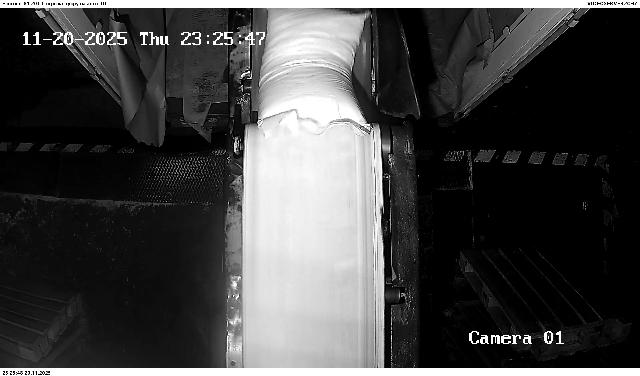bag: (257, 8, 373, 135)
